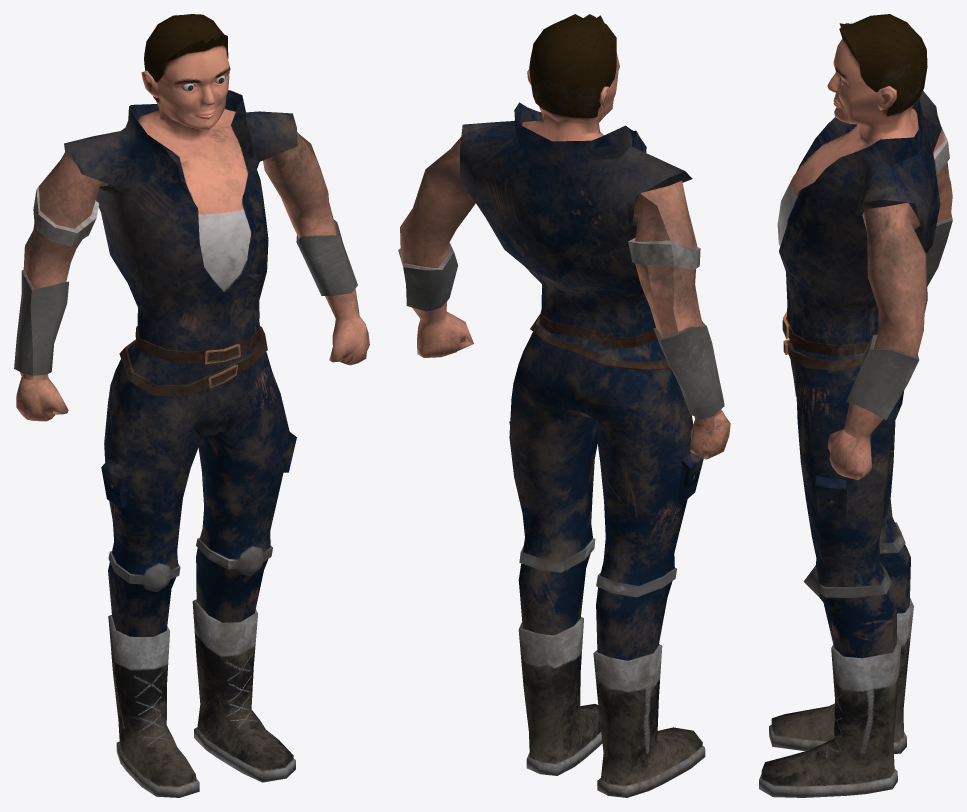
File: Anim_ataque_d1_jugador.0010.obj
3 renders of one model, left to right at view 1: azimuth 30°, elevation 25°; view 2: azimuth 150°, elevation 25°; view 3: azimuth 270°, elevation 25°, orthographic. The views are drawn at different scales.
Visible parts, largest first — view 1: polySurface1; view 2: polySurface1; view 3: polySurface1.
Boxes of the visible parts, left/top/right/bottom form: polySurface1: left=14, top=14, right=369, bottom=797; polySurface1: left=398, top=14, right=730, bottom=797; polySurface1: left=759, top=14, right=952, bottom=797.
Size of the model in its own units: 4.46 by 9.62 by 2.25.
